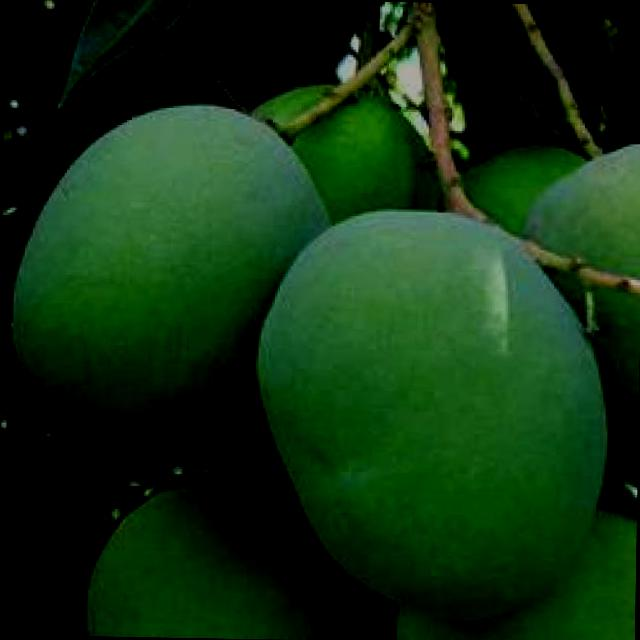Mango: (248, 209, 615, 621), (5, 102, 328, 430), (80, 480, 375, 640), (518, 138, 640, 486), (396, 495, 634, 640), (254, 71, 438, 222), (452, 144, 586, 238)
